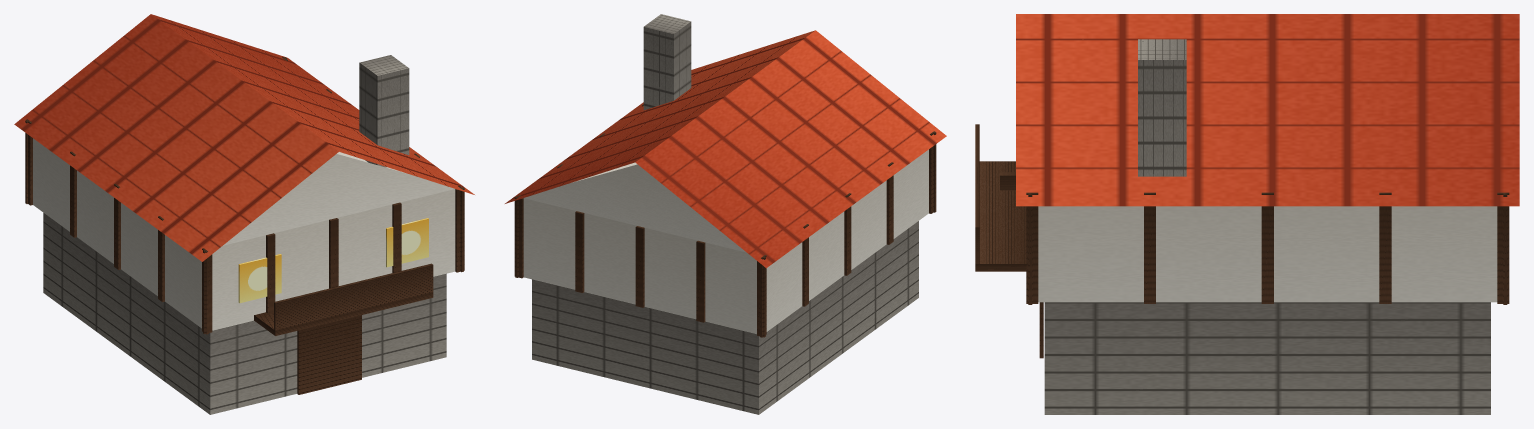
Rendered from house_town_inn.gltf.
The picture shows the model from 3 angles, left to right: view 1: azimuth 30°, elevation 25°; view 2: azimuth 150°, elevation 25°; view 3: azimuth 270°, elevation 25°; orthographic projection. The views are drawn at different scales.
Visible parts, largest first — view 1: house_town_inn; view 2: house_town_inn; view 3: house_town_inn.
Part boxes in pixels (box(x1,y1,x2,y2)): house_town_inn: box(14, 14, 474, 414); house_town_inn: box(505, 14, 946, 414); house_town_inn: box(975, 14, 1519, 414).
Size of the model in its own units: 10.4 by 9.6 by 13.4.
1 material, 1 textured.
